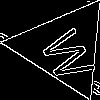W: (38, 22, 100, 86)
